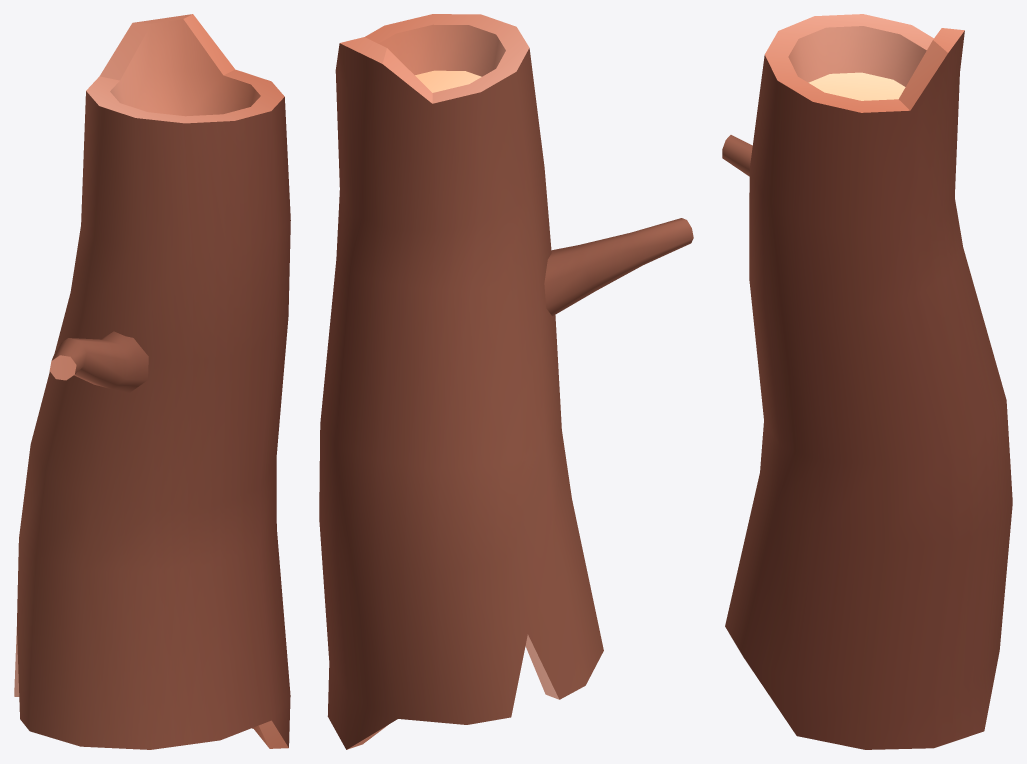
File: log_001.glb
3 views of the same model, side by side, from view 1: azimuth 30°, elevation 25°; view 2: azimuth 150°, elevation 25°; view 3: azimuth 270°, elevation 25° (orthographic).
Parts seen in each view (by area): view 1: log_001; view 2: log_001; view 3: log_001.
Boxes of the visible parts, x1,y1,x2,y2 form: log_001: (14,14,290,749); log_001: (319,14,693,749); log_001: (722,14,1012,749).
Bounding box in the file's own units: 1.46 × 3.42 × 1.3.
1 material, 1 textured.
